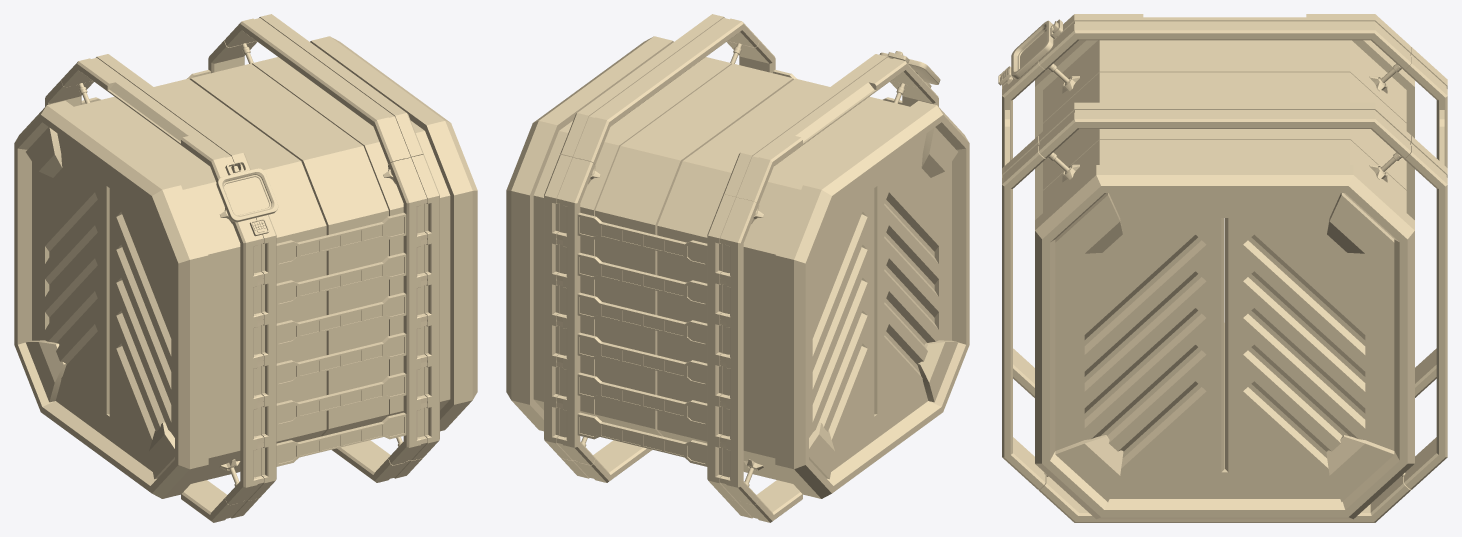
File: cargo_box1.fbx
3 views of the same model, side by side, from view 1: azimuth 30°, elevation 25°; view 2: azimuth 150°, elevation 25°; view 3: azimuth 270°, elevation 25° (orthographic). The views are drawn at different scales.
Visible parts, largest first — view 1: box, cage, doors; view 2: box, cage, doors; view 3: box, doors, cage.
Boxes of the visible parts, x1,y1,x2,y2 form: box: [14, 36, 477, 498]; cage: [45, 14, 439, 522]; doors: [45, 153, 171, 445]; box: [506, 36, 969, 498]; cage: [544, 14, 940, 522]; doors: [812, 153, 938, 445]; box: [1035, 40, 1414, 519]; doors: [1084, 218, 1365, 472]; cage: [998, 14, 1447, 522].
Size of the model in its own units: 150 by 174 by 175.
